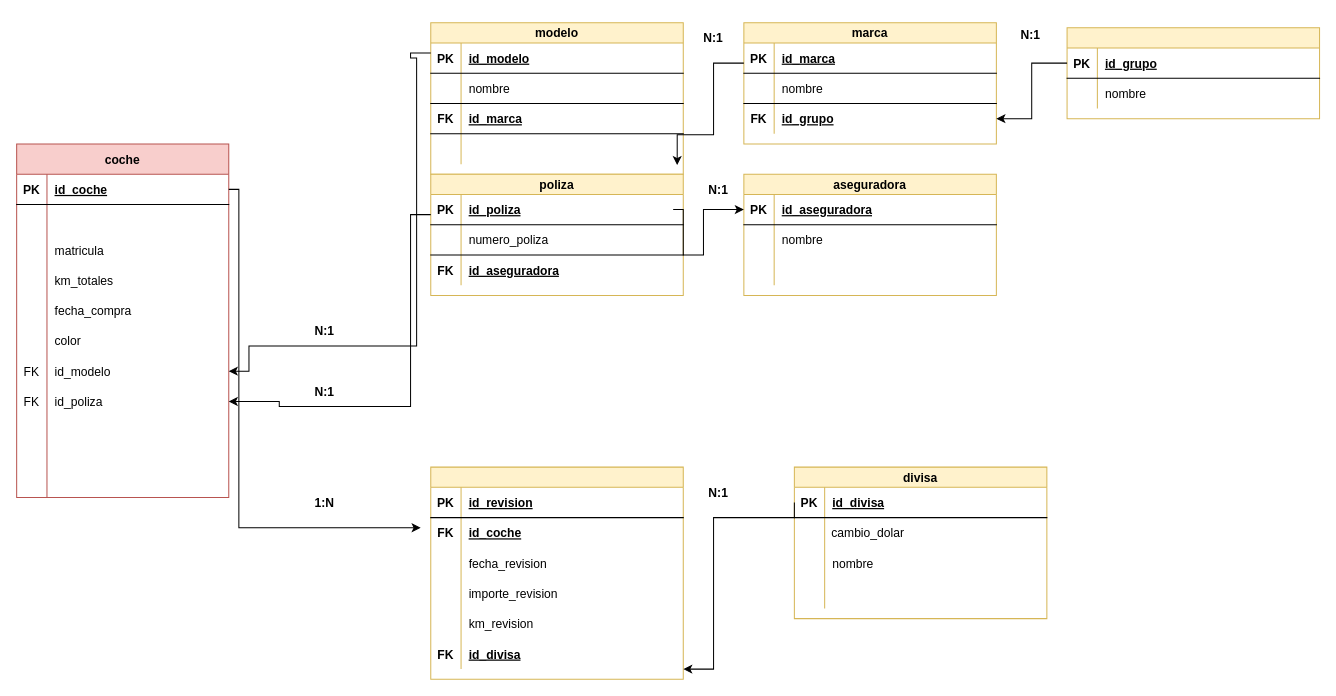
Image size: 1336x696. Some labels were removed from this diagram. Each missing label, with the box of its shape:
grupo_coche: (1066, 27, 1320, 119)
hist_revisiones: (430, 466, 683, 679)
